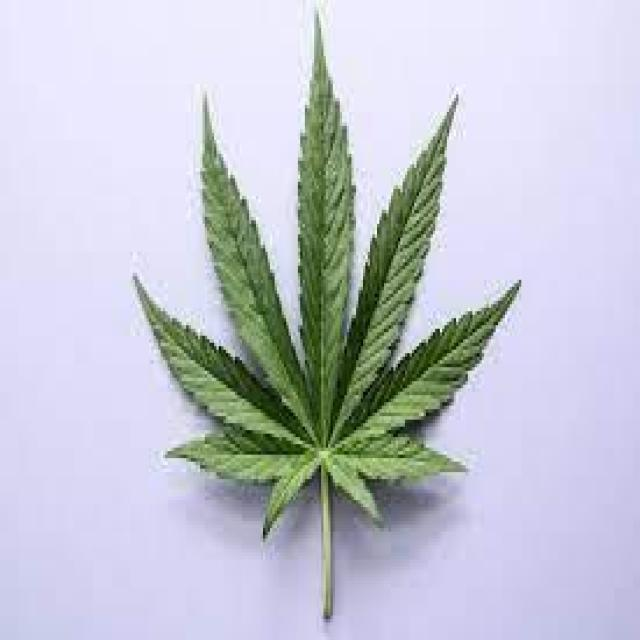cannabis: (131, 7, 521, 627)
